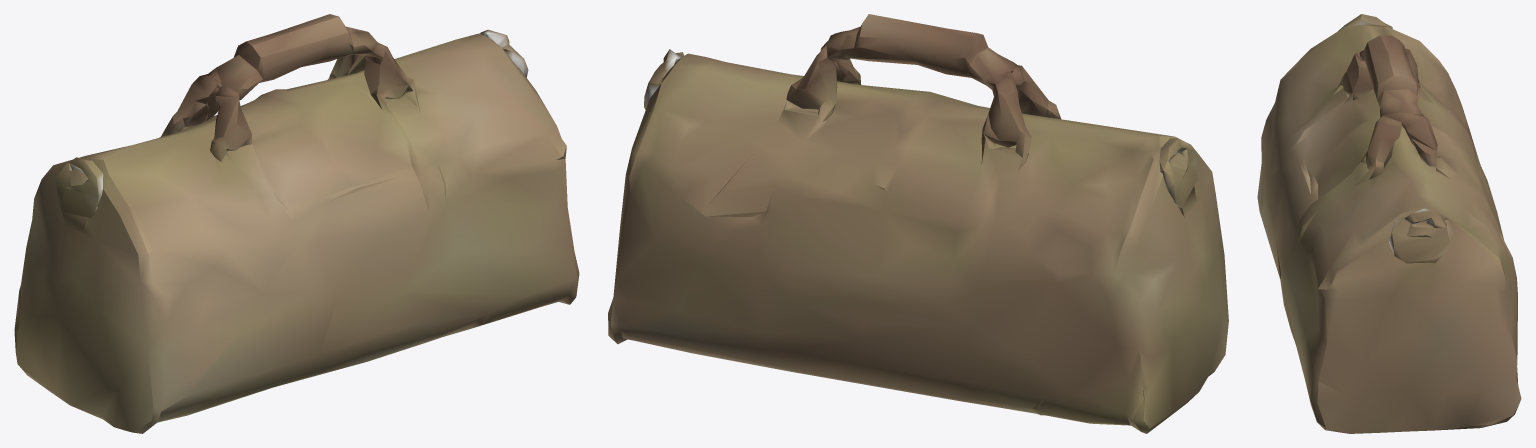
Rendered from Bag01.fbx.
3 renders of one model, left to right at view 1: azimuth 30°, elevation 25°; view 2: azimuth 150°, elevation 25°; view 3: azimuth 270°, elevation 25°, orthographic. The views are drawn at different scales.
Parts seen in each view (by area): view 1: Bag; view 2: Bag; view 3: Bag.
Part boxes in pixels (box(x1,y1,x2,y2)): Bag: box(14, 14, 579, 433); Bag: box(608, 14, 1228, 433); Bag: box(1257, 14, 1521, 433).
Size of the model in its own units: 74.04 by 44.75 by 38.62.
